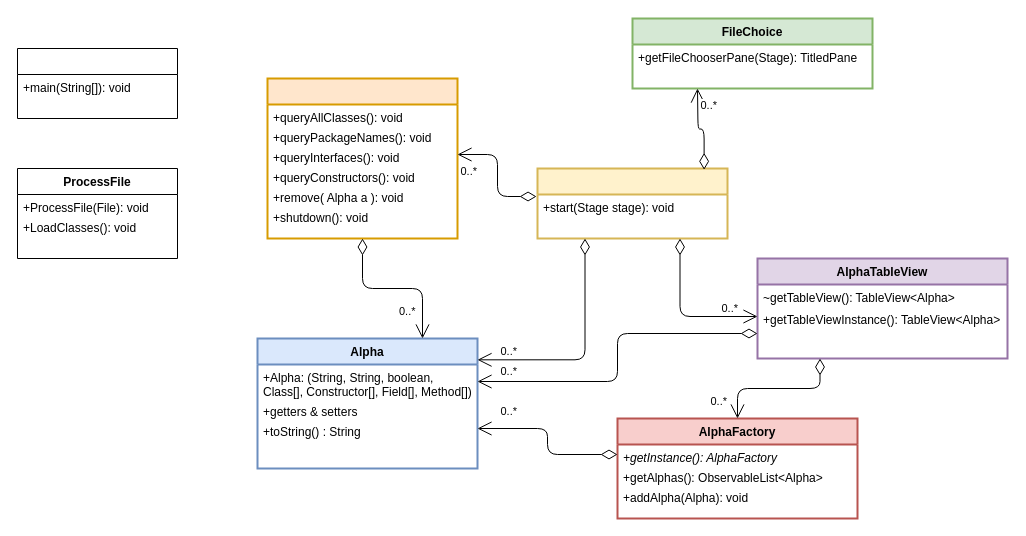
This 1026x536 diagram has some shape labels left out. The shapes that lost their labels are listed below. From the top down, each one's box as (x1, y1, x2, y2) in pixels, then its label:
(16, 48, 178, 118): Runner
(266, 77, 458, 239): AlphaDB
(536, 167, 728, 239): AppWindow
